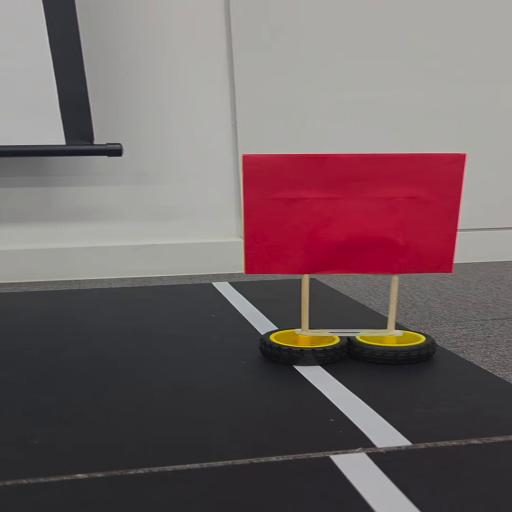Sign_A: (226, 144, 470, 373)
